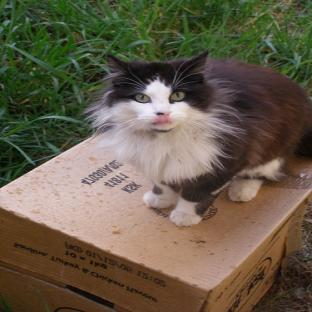Animal: (87, 51, 312, 225)
